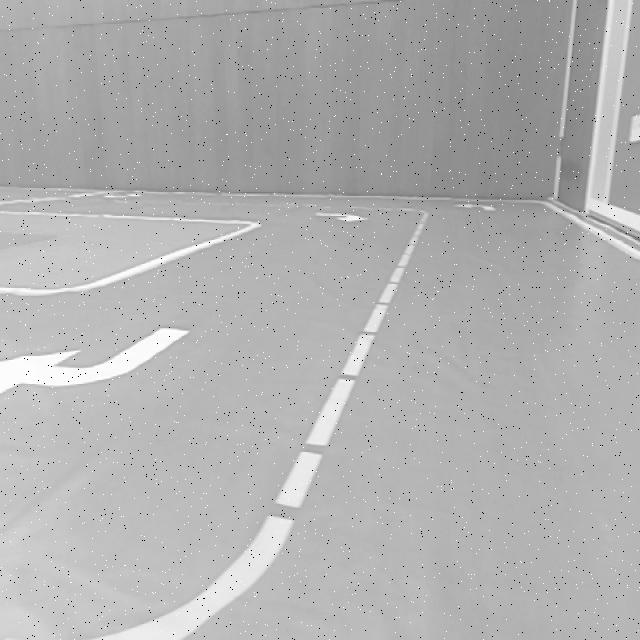left_lane: (261, 216, 426, 533)
right_lane: (542, 203, 640, 262)
